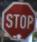Stop sign: (0, 0, 36, 41)
